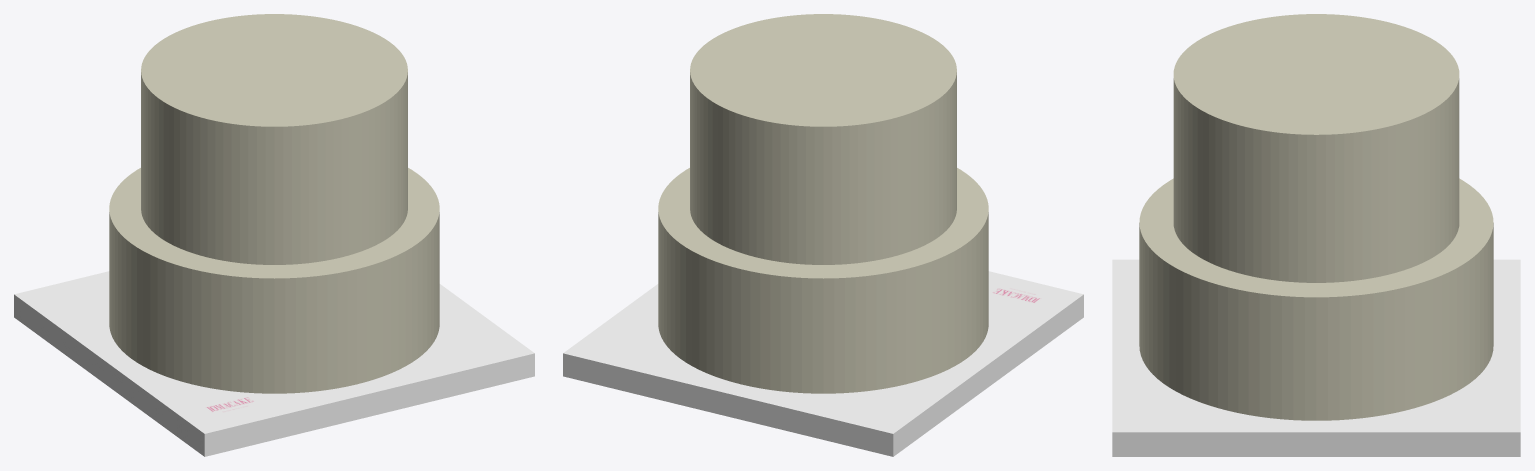
File: cake_tier2_10-8_layers3_v33.glb
3 views of the same model, side by side, from view 1: azimuth 30°, elevation 25°; view 2: azimuth 150°, elevation 25°; view 3: azimuth 270°, elevation 25° (orthographic). The views are drawn at different scales.
Parts seen in each view (by area): view 1: Tier1, Tier0, Board, Logo; view 2: Tier1, Tier0, Board, Logo; view 3: Tier1, Tier0, Board.
Boxes of the visible parts, box(x1,y1,x2,y2) form: Tier1: box(141, 14, 407, 264); Tier0: box(109, 168, 439, 393); Board: box(14, 271, 534, 456); Logo: box(198, 394, 265, 417); Tier1: box(690, 14, 956, 264); Tier0: box(658, 168, 988, 393); Board: box(563, 271, 1083, 456); Logo: box(988, 282, 1052, 306); Tier1: box(1173, 14, 1459, 282); Tier0: box(1139, 178, 1493, 420); Board: box(1112, 259, 1520, 456).
Size of the model in its own units: 0.3 by 0.24 by 0.3.
